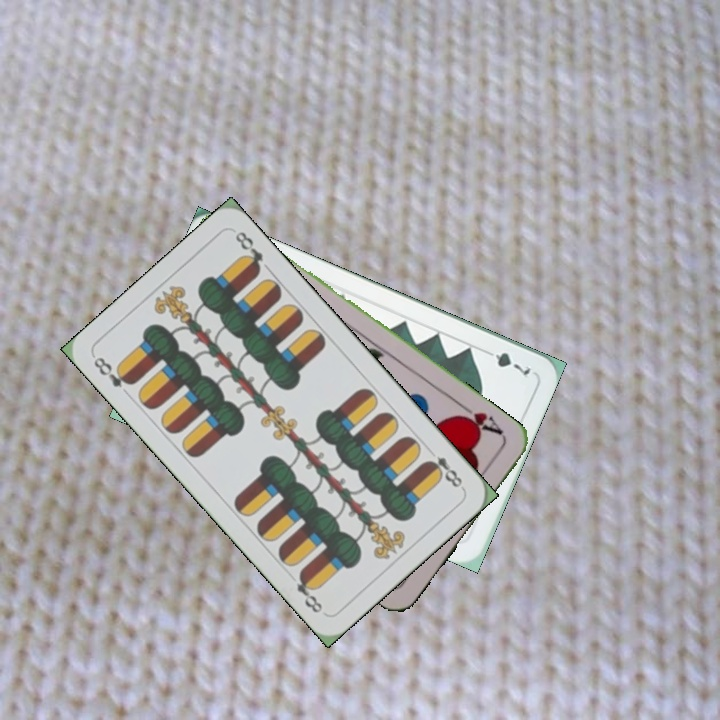E8: (421, 443, 466, 492), (89, 352, 137, 391)
G7: (478, 345, 535, 378)
HA: (453, 400, 507, 441)
